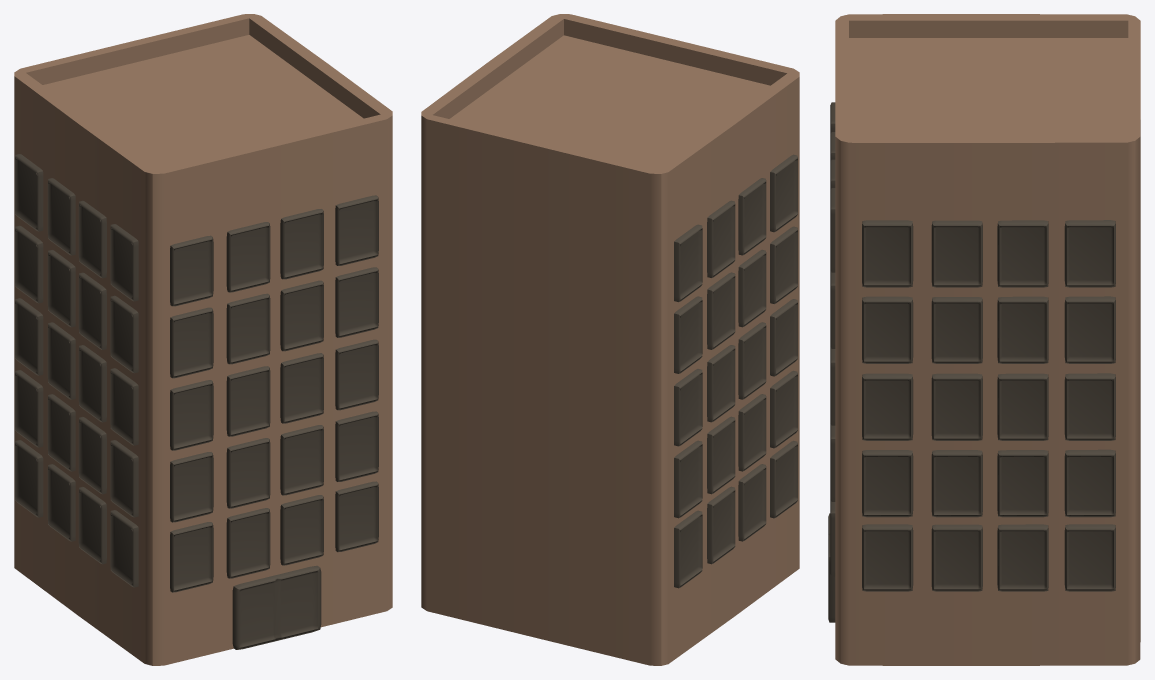
File: tallBuilding 1.fbx
3 renders of one model, left to right at view 1: azimuth 30°, elevation 25°; view 2: azimuth 150°, elevation 25°; view 3: azimuth 270°, elevation 25°, orthographic. The views are drawn at different scales.
Parts seen in each view (by area): view 1: polySurface137, polySurface138; view 2: polySurface137, polySurface138; view 3: polySurface137, polySurface138.
Part boxes in pixels (x1=…): polySurface137: x1=14, y1=14, x2=392, y2=665; polySurface138: x1=15, y1=154, x2=378, y2=649; polySurface137: x1=421, y1=14, x2=799, y2=665; polySurface138: x1=674, y1=154, x2=797, y2=588; polySurface137: x1=835, y1=14, x2=1140, y2=665; polySurface138: x1=828, y1=102, x2=1115, y2=622.
Size of the model in its own units: 2.12 by 3.85 by 2.08.
